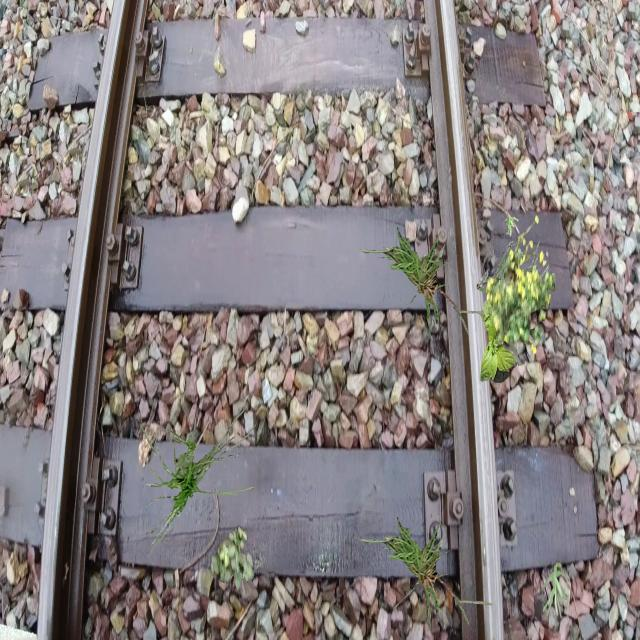Plant: (137, 394, 256, 558), (349, 516, 492, 636), (349, 226, 492, 346), (480, 215, 555, 355), (477, 241, 550, 366), (480, 300, 516, 383), (211, 525, 254, 592), (541, 562, 568, 618), (505, 216, 519, 236)
